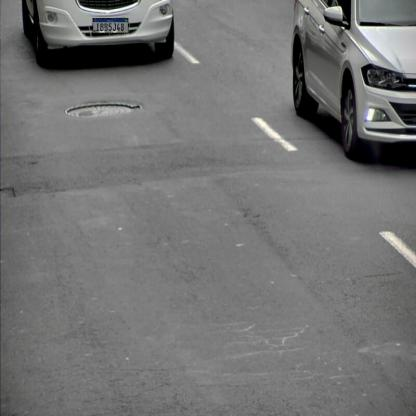PlacaM: (92, 18, 128, 33)
